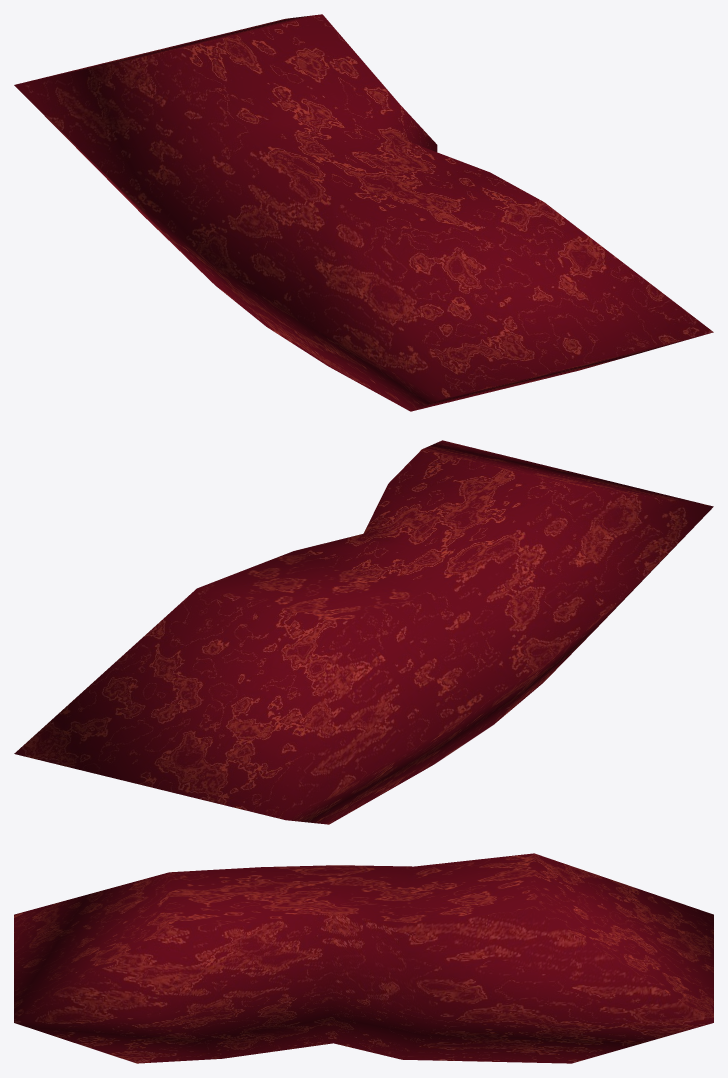
File: laman loob 2.fbx
3 renders of one model, top to bottom at view 1: azimuth 30°, elevation 25°; view 2: azimuth 150°, elevation 25°; view 3: azimuth 270°, elevation 25°, orthographic. The views are drawn at different scales.
Visible parts, largest first — view 1: laman loob 2; view 2: laman loob 2; view 3: laman loob 2.
Boxes of the visible parts, <box> form: laman loob 2: <box>14,14,713,411</box>; laman loob 2: <box>14,440,713,824</box>; laman loob 2: <box>14,853,713,1063</box>.
Size of the model in its own units: 23.34 by 5.46 by 9.62.
1 material, 1 textured.
